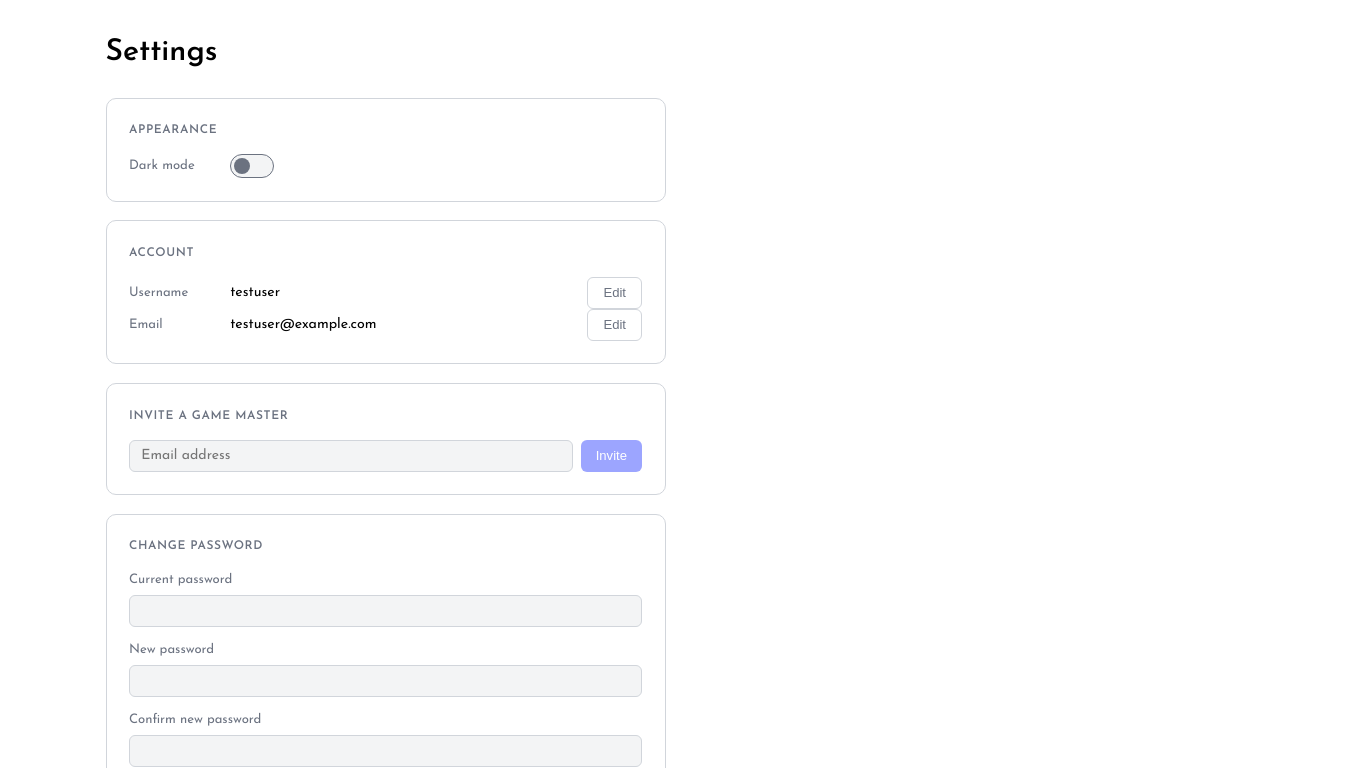
Scenario: username: cancel closes the modal without saving
This screenshot has width=1366, height=768.
Expected: the text "testuser" is shown, [230,285,280,300]
Step 1. Click the button "Edit" in the row of "Username" → point(615, 293), box [587,277,642,309]
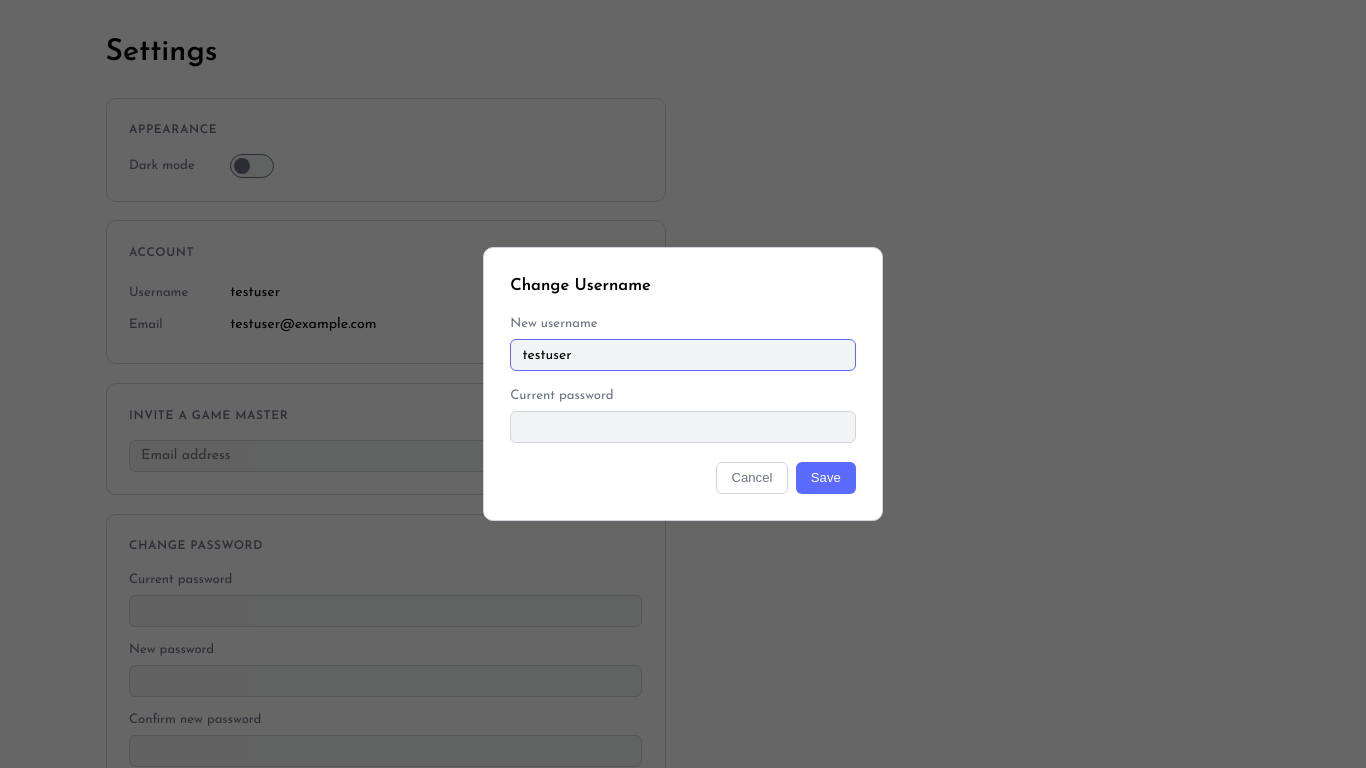
Step 2. Click the button "Cancel" → point(752, 478), box [716,462,788,494]
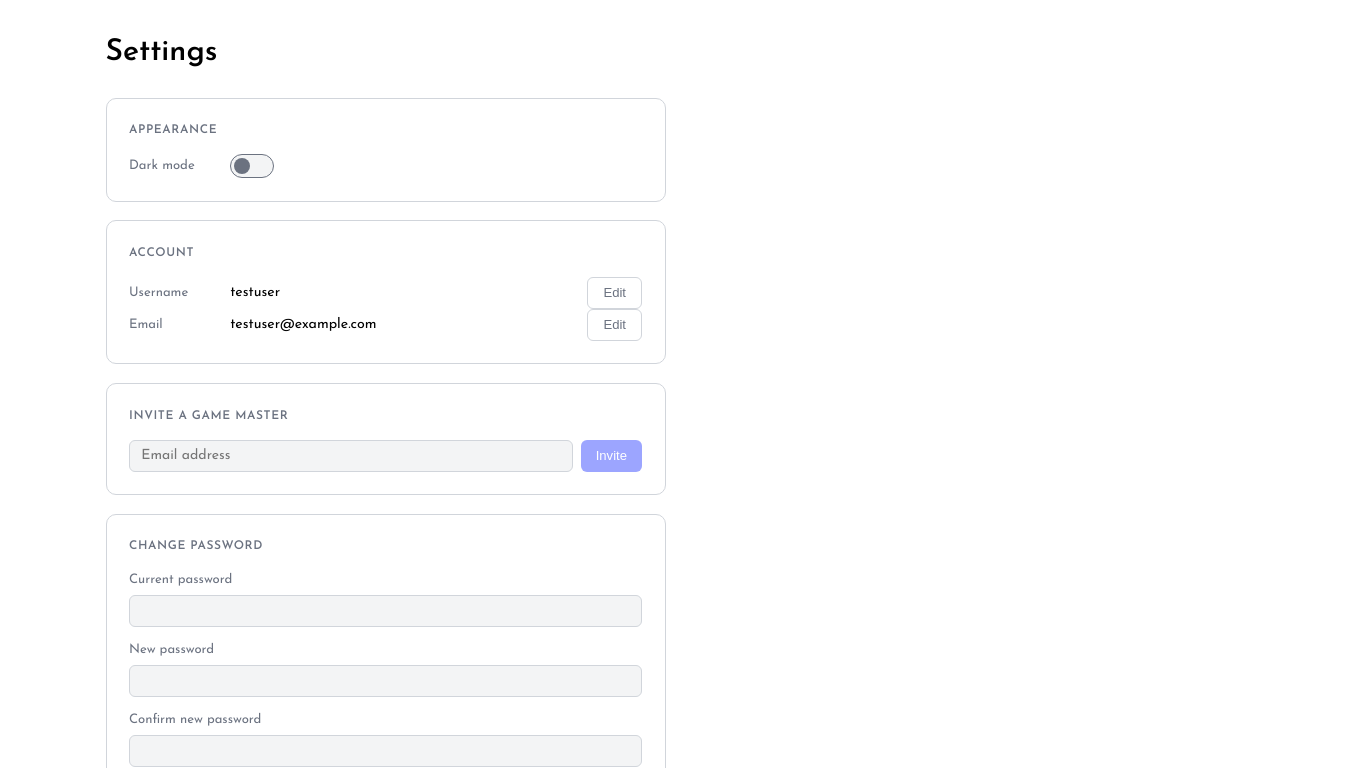
Result: the heading "Change Username" is gone
